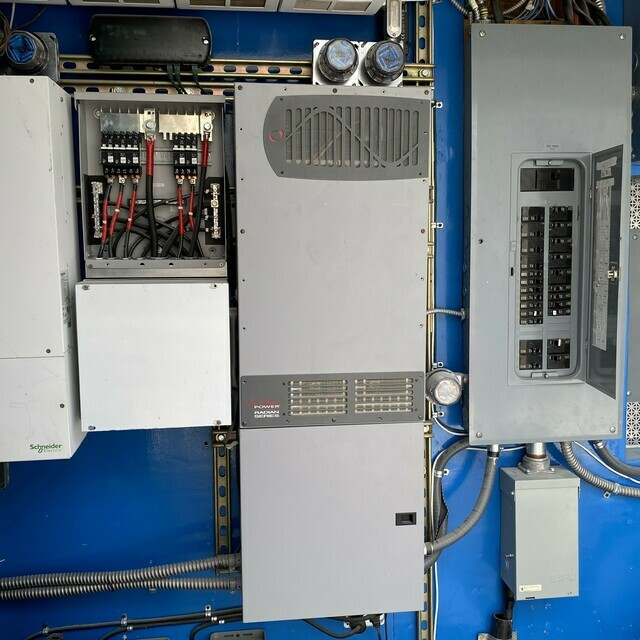inverter: (234, 75, 442, 630)
